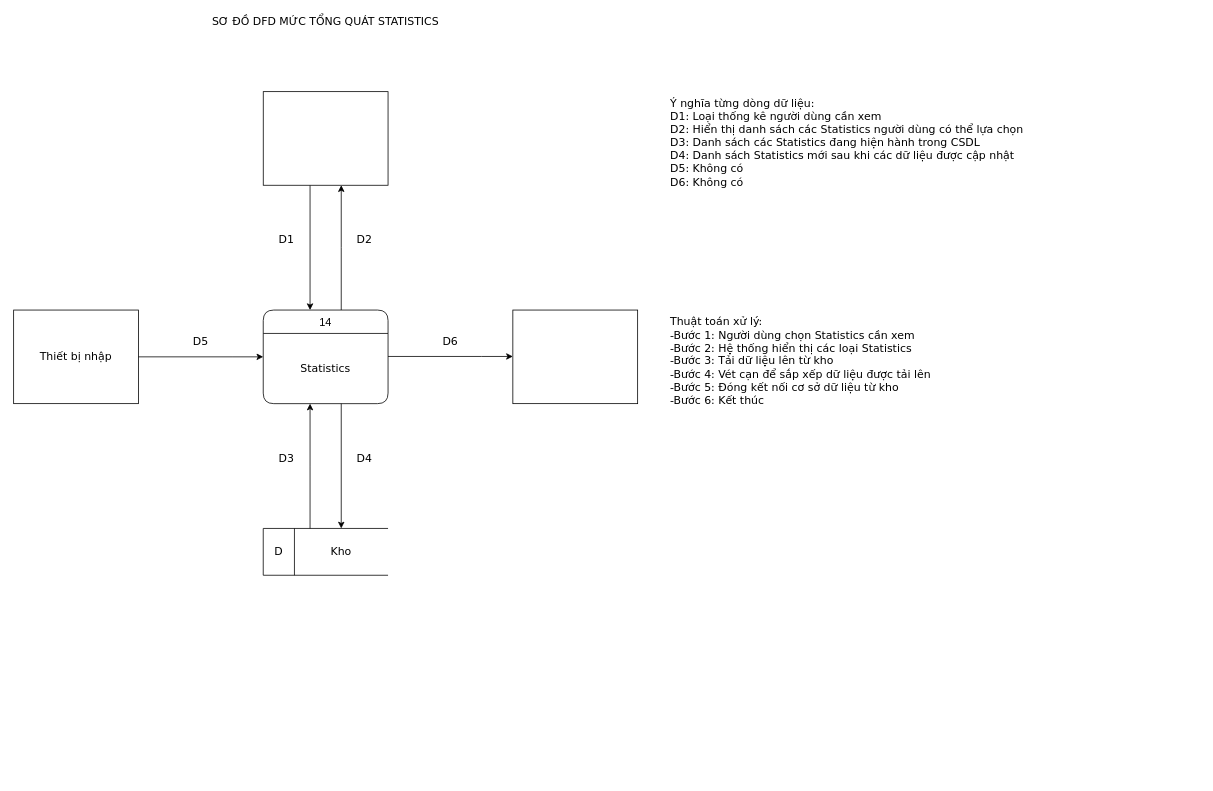
This 1213x791 diagram has some shape labels left out. Each missing label, with the centre of its shape:
Thiết bị xuất: point 575,356
User: point 325,138
